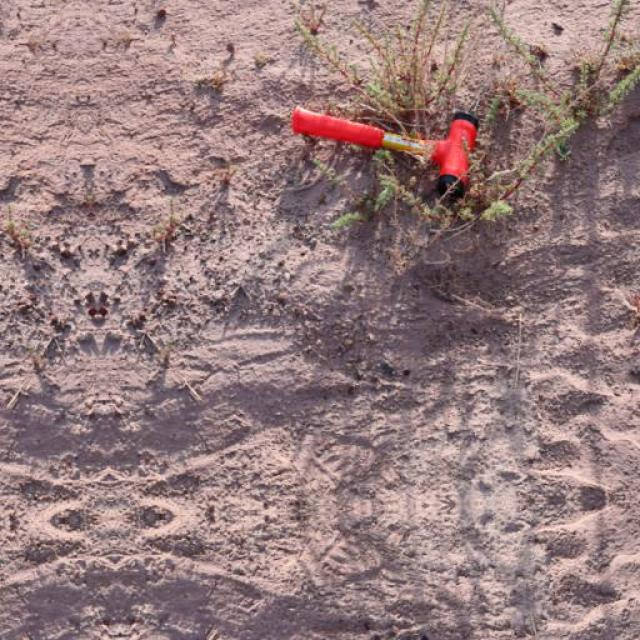mallet: (291, 104, 481, 200)
